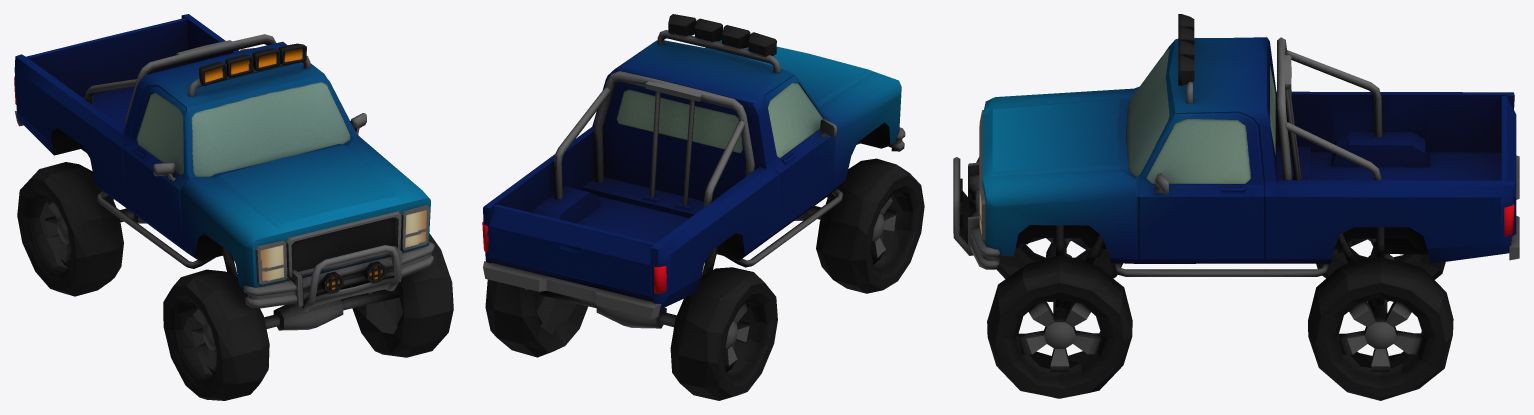
Rendered from truck.fbx.
3 renders of one model, left to right at view 1: azimuth 30°, elevation 25°; view 2: azimuth 150°, elevation 25°; view 3: azimuth 270°, elevation 25°, orthographic. The views are drawn at different scales.
Parts seen in each view (by area): view 1: Monster Truck Blue, Right front wheel, Right back wheel, Left front wheel; view 2: Monster Truck Blue, Right back wheel, Right front wheel, Left back wheel; view 3: Monster Truck Blue, Left front wheel, Left back wheel, Right front wheel, Right back wheel.
Boxes of the visible parts, left/top/right/bottom form: Monster Truck Blue: left=14, top=14, right=434, bottom=330; Right front wheel: left=163, top=269, right=269, bottom=400; Right back wheel: left=17, top=162, right=123, bottom=296; Left front wheel: left=352, top=233, right=453, bottom=357; Monster Truck Blue: left=482, top=14, right=905, bottom=328; Right back wheel: left=670, top=267, right=777, bottom=400; Right front wheel: left=816, top=158, right=924, bottom=293; Left back wheel: left=485, top=279, right=588, bottom=357; Monster Truck Blue: left=953, top=14, right=1519, bottom=316; Left front wheel: left=987, top=255, right=1132, bottom=398; Left back wheel: left=1308, top=257, right=1453, bottom=400; Right front wheel: left=996, top=238, right=1122, bottom=301; Right back wheel: left=1316, top=238, right=1445, bottom=279.
Bounding box in the file's own units: 290 × 323 × 544.
